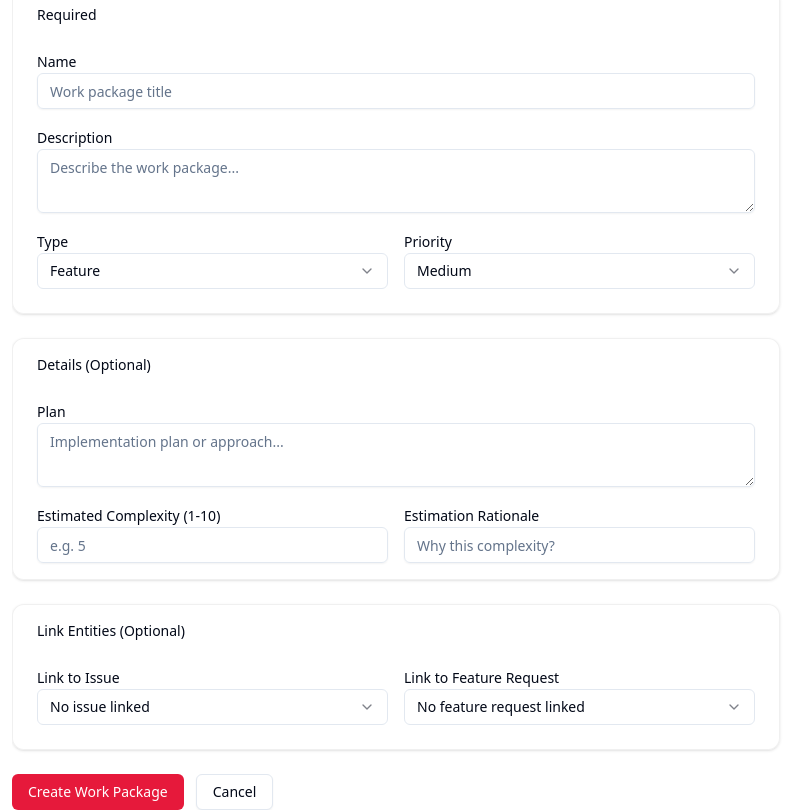
it: WorkPackageCreatePage › validates required fields on empty submit
The width and height of the screenshot is (797, 810).
(page scrolled)
Click the button "Create Work Package": (98, 792) top-left (12, 774), bottom-right (184, 809)
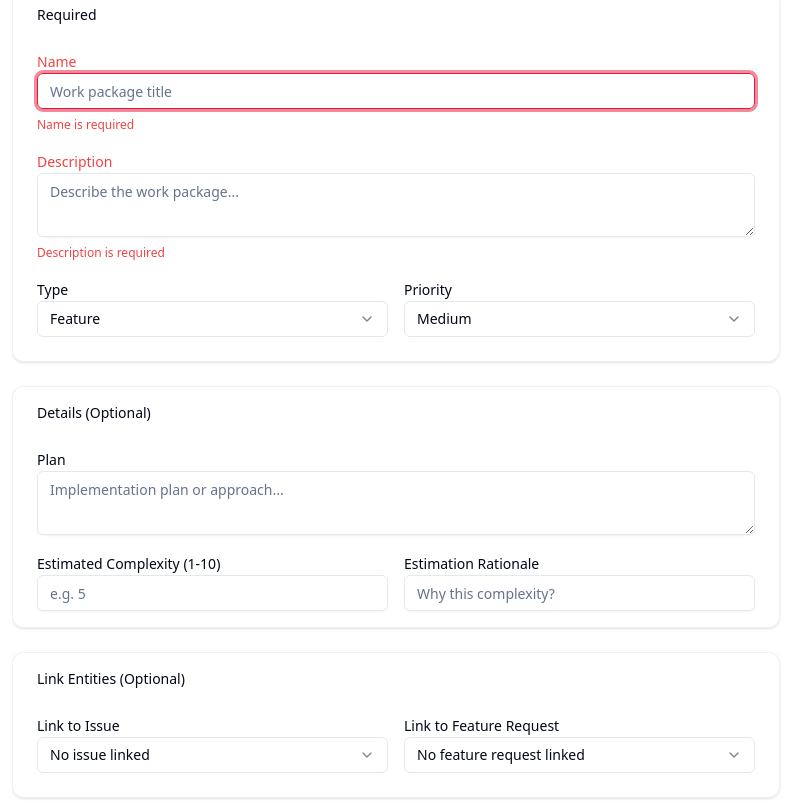
Result: the text "Name is required" is shown at top-left (37, 116), bottom-right (134, 133)
Result: the text "Description is required" is shown at top-left (37, 244), bottom-right (165, 261)
